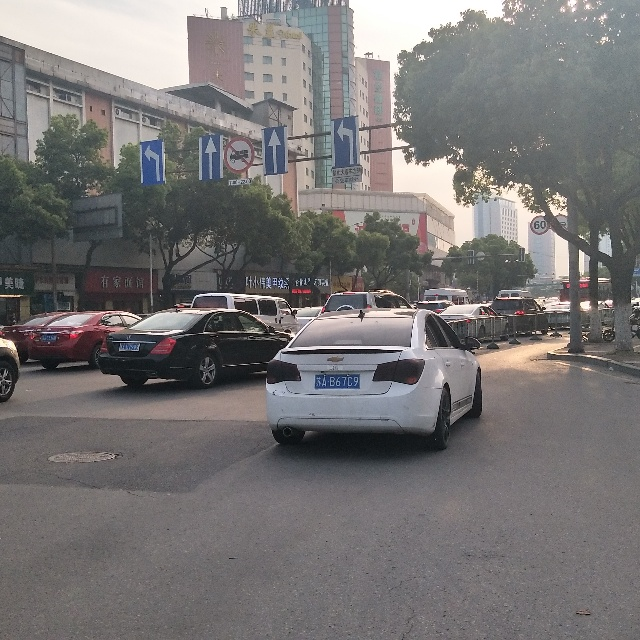left: (334, 118, 356, 166), (143, 140, 166, 182)
straight: (199, 134, 223, 179), (266, 125, 287, 173)
